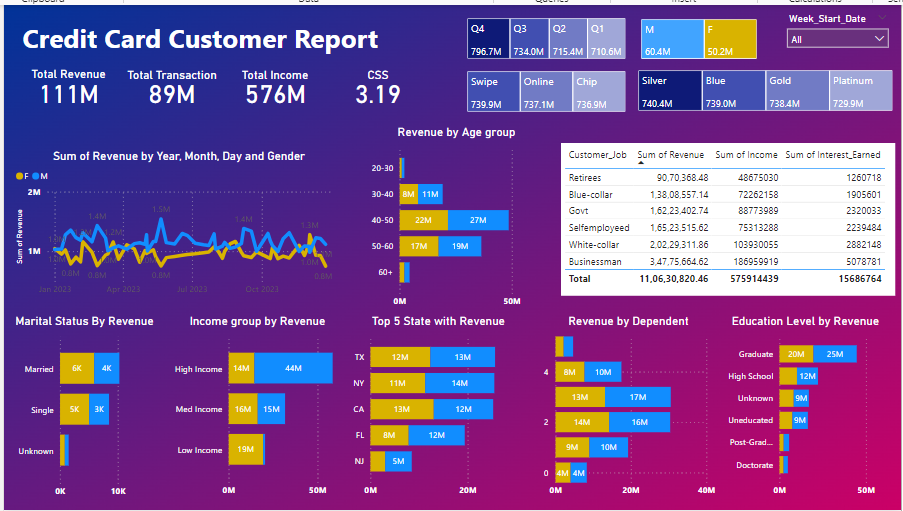

This screenshot's page, from the dashboard's own definition file:
{"tool":"powerbi","page":{"name":"Credit Card Customer report","canvas":[1280,720],"ordinal":2},"visuals":[{"type":"textbox","box":[21.4,15.7,528,65.6],"z":0},{"type":"barChart","title":"Marital Status By Revenue","fields":{"Category":["cust_detail.Marital_Status"],"Y":["CountNonNull(cc_detail.Client_Num)"],"Series":["cust_detail.Gender"]},"box":[10,440.9,209.8,271.1],"z":2},{"type":"card","title":"Total Revenue","fields":{"Values":["Sum(cc_detail.Revenue)"]},"box":[21.4,88.5,141.3,71.3],"z":3},{"type":"card","title":"Total Transaction","fields":{"Values":["Sum(cc_detail.Total_Trans_Amt)"]},"box":[169.8,89.9,139.8,69.9],"z":4},{"type":"card","title":"Total Income","fields":{"Values":["Sum(cust_detail.Income)"]},"box":[316.8,89.9,139.8,69.9],"z":5},{"type":"card","title":"CSS","fields":{"Values":["Avg(cust_detail.Cust_Satisfaction_Score)"]},"box":[463.8,89.9,139.8,69.9],"z":6},{"type":"slicer","fields":{"Values":["cc_detail.Week_Start_Date"]},"box":[1107.9,5.3,165,75.5],"z":7},{"type":"treemap","fields":{"Group":["cc_detail.Qtr"],"Values":["Avg(cc_detail.Client_Num)"]},"box":[656.4,14.3,235.5,67.1],"z":8},{"type":"treemap","fields":{"Group":["cc_detail.Card_Category"],"Values":["Avg(cc_detail.Client_Num)"]},"box":[900.4,88.5,372.4,67.1],"z":10},{"type":"treemap","fields":{"Group":["cust_detail.Gender"],"Values":["Sum(cc_detail.Revenue)"]},"box":[904.7,15.7,174.1,65.6],"z":14},{"type":"lineChart","fields":{"Series":["cust_detail.Gender"],"Y":["Sum(cc_detail.Revenue)"],"Category":["cc_detail.Week_Start_Date.Variation.Date Hierarchy.Year","cc_detail.Week_Start_Date.Variation.Date Hierarchy.Month","cc_detail.Week_Start_Date.Variation.Date Hierarchy.Day"]},"box":[11.4,205.5,476.6,218.3],"z":15},{"type":"barChart","title":"Income group by Revenue","fields":{"Category":["cust_detail.IncomeGroup"],"Y":["Sum(cc_detail.Revenue)"],"Series":["cust_detail.Gender"]},"box":[232.6,440.9,258.3,269.7],"z":16},{"type":"barChart","title":" Revenue by Age group","fields":{"Category":["cust_detail.AgeGroup"],"Y":["Sum(cc_detail.Revenue)"],"Series":["cust_detail.Gender"]},"box":[516.6,171.2,258.3,269.7],"z":17},{"type":"barChart","title":"Revenue by Dependent","fields":{"Category":["cust_detail.Dependent_Count"],"Y":["Sum(cc_detail.Revenue)"],"Series":["cust_detail.Gender"]},"box":[762,440.9,258.3,269.7],"z":18},{"type":"barChart","title":"Education Level by Revenue","fields":{"Category":["cust_detail.Education_Level"],"Y":["Sum(cc_detail.Revenue)"],"Series":["cust_detail.Gender"]},"box":[1014.6,440.9,258.3,269.7],"z":19},{"type":"barChart","title":"Top 5 State with Revenue","fields":{"Category":["cust_detail.state_cd"],"Y":["Sum(cc_detail.Revenue)"],"Series":["cust_detail.Gender"]},"box":[490.9,440.9,258.3,269.7],"z":20},{"type":"tableEx","fields":{"Values":["cust_detail.Customer_Job","Sum(cc_detail.Revenue)","cust_detail.Income","cc_detail.Interest_Earned"]},"box":[794.8,196.9,476.6,218.3],"z":21},{"type":"treemap","fields":{"Group":["cc_detail.Use Chip"],"Values":["Avg(cc_detail.Client_Num)"]},"box":[656.4,89.9,235.5,67.1],"z":22}]}

Visuals, with their boxes on the page's 1280x720 design canvas (x1, y1, x2, y2). These are canvas units, not pixel positions in the 903x511 screenshot, which may show the page scaled, cropped or inside an application window:
textbox: <bbox>21, 16, 549, 81</bbox>
"Marital Status By Revenue" barChart: <bbox>10, 441, 220, 712</bbox>
"Total Revenue" card: <bbox>21, 88, 163, 160</bbox>
"Total Transaction" card: <bbox>170, 90, 310, 160</bbox>
"Total Income" card: <bbox>317, 90, 457, 160</bbox>
"CSS" card: <bbox>464, 90, 604, 160</bbox>
slicer - cc_detail.Week_Start_Date: <bbox>1108, 5, 1273, 81</bbox>
treemap - cc_detail.Qtr x Avg(cc_detail.Client_Num): <bbox>656, 14, 892, 81</bbox>
treemap - cc_detail.Card_Category x Avg(cc_detail.Client_Num): <bbox>900, 88, 1273, 156</bbox>
treemap - cust_detail.Gender x Sum(cc_detail.Revenue): <bbox>905, 16, 1079, 81</bbox>
lineChart - cust_detail.Gender x Sum(cc_detail.Revenue): <bbox>11, 206, 488, 424</bbox>
"Income group by Revenue" barChart: <bbox>233, 441, 491, 711</bbox>
" Revenue by Age group" barChart: <bbox>517, 171, 775, 441</bbox>
"Revenue by Dependent" barChart: <bbox>762, 441, 1020, 711</bbox>
"Education Level by Revenue" barChart: <bbox>1015, 441, 1273, 711</bbox>
"Top 5 State with Revenue" barChart: <bbox>491, 441, 749, 711</bbox>
tableEx - cust_detail.Customer_Job x Sum(cc_detail.Revenue): <bbox>795, 197, 1271, 415</bbox>
treemap - cc_detail.Use Chip x Avg(cc_detail.Client_Num): <bbox>656, 90, 892, 157</bbox>
